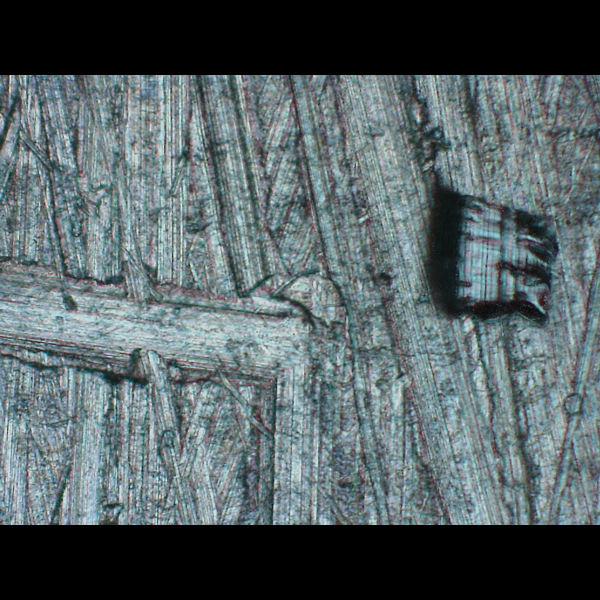d: (0, 256, 343, 404), (400, 164, 558, 336), (246, 292, 333, 524)
